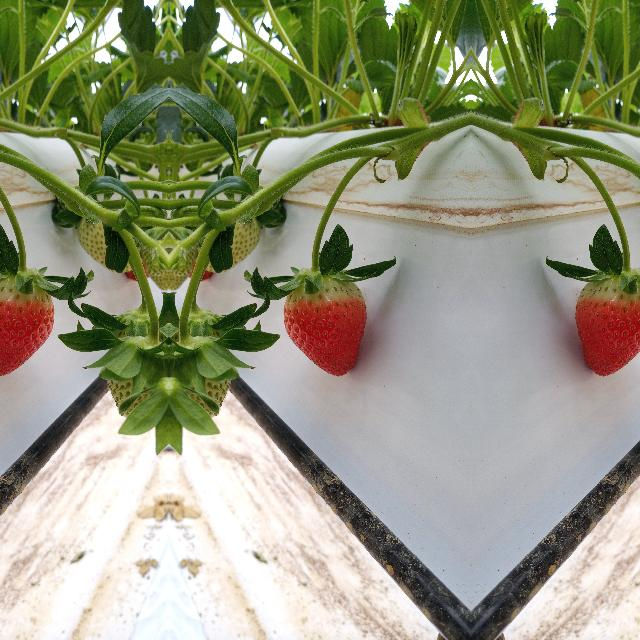Health_100: (282, 273, 366, 377), (575, 273, 640, 377), (0, 273, 54, 377)
Health_25: (172, 338, 230, 412), (106, 338, 164, 412), (206, 202, 264, 272), (72, 202, 130, 272)
